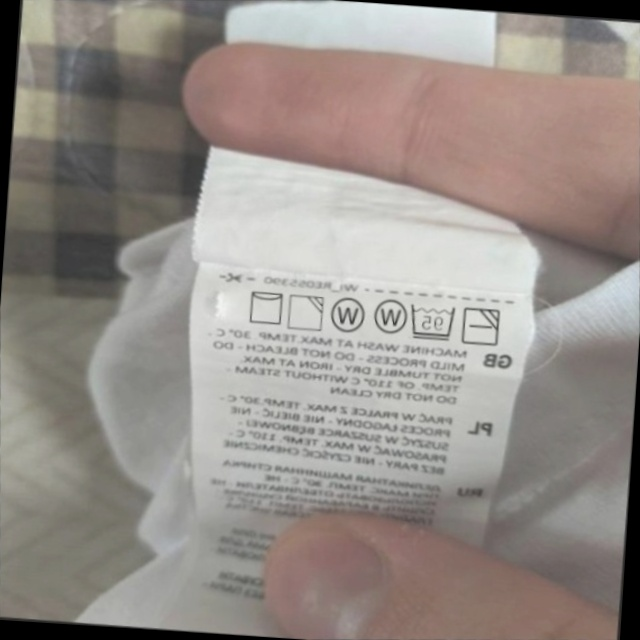95C: (404, 297, 460, 345)
dry_flat_in_shade: (458, 301, 505, 351)
line_dry: (242, 284, 289, 330)
shade_dry: (282, 289, 329, 336)
wet_clean: (367, 291, 411, 339), (325, 292, 369, 339)
